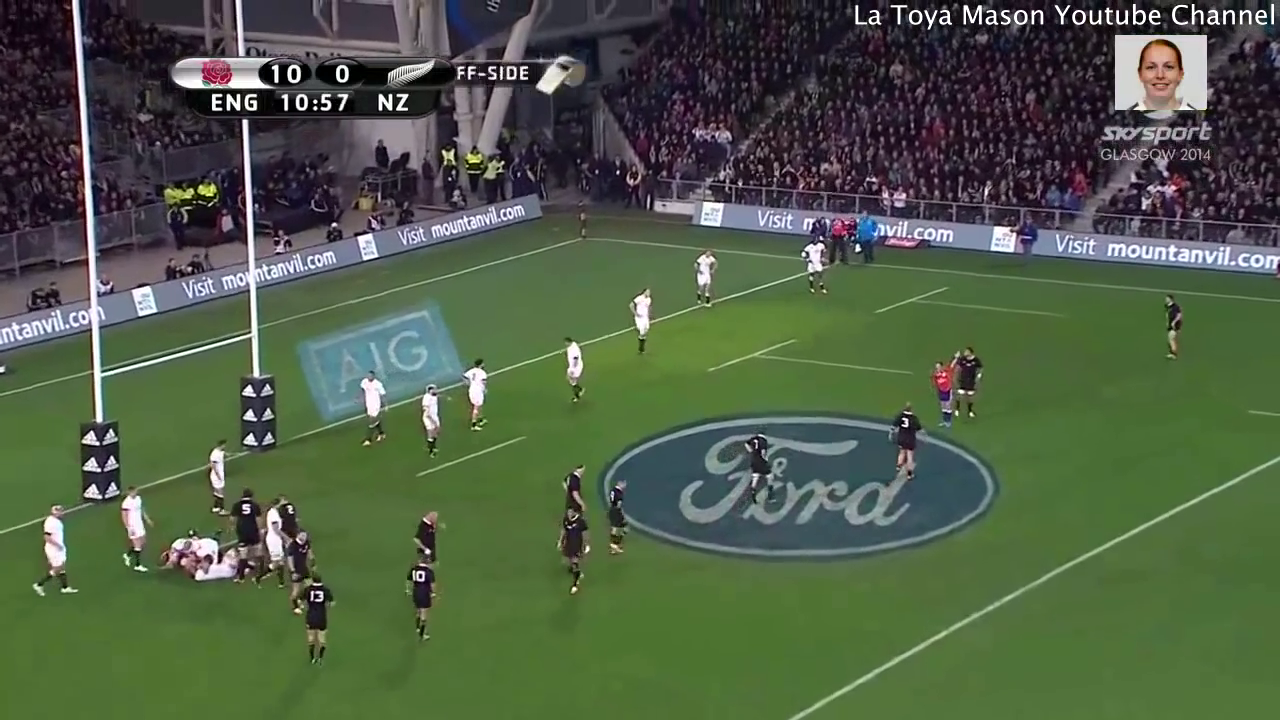player: (21, 501, 84, 603), (289, 569, 341, 672), (549, 501, 595, 604), (113, 478, 159, 579), (228, 482, 268, 589), (879, 393, 927, 482), (281, 523, 324, 619), (740, 421, 781, 516), (404, 547, 442, 647), (410, 374, 453, 460), (922, 344, 962, 435), (947, 340, 988, 428), (454, 352, 495, 437), (353, 360, 390, 450), (683, 243, 722, 324), (557, 332, 596, 413), (623, 285, 662, 361), (257, 493, 288, 588), (796, 232, 835, 306), (203, 428, 234, 520), (407, 507, 447, 575), (601, 473, 631, 562), (182, 551, 253, 588), (159, 526, 229, 561), (1156, 289, 1185, 368), (559, 454, 589, 515), (275, 492, 303, 552)
post: (60, 1, 288, 510)
